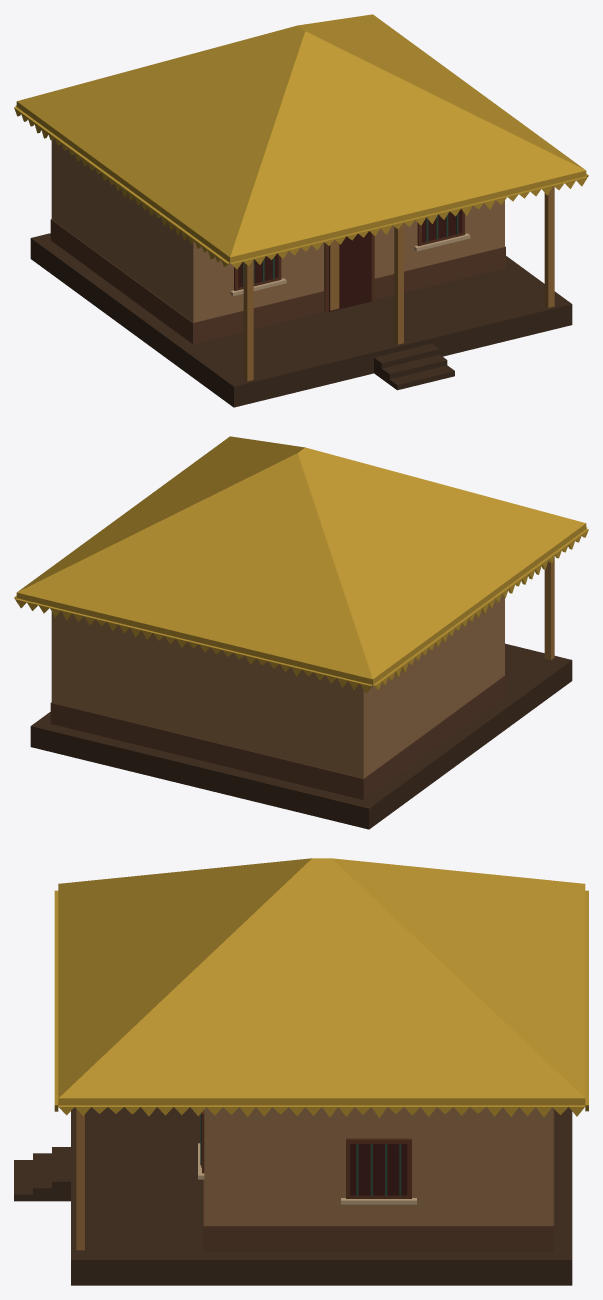
File: chop_bar.glb
The picture shows the model from 3 angles, top to bottom: view 1: azimuth 30°, elevation 25°; view 2: azimuth 150°, elevation 25°; view 3: azimuth 270°, elevation 25°; orthographic projection. The views are drawn at different scales.
Visible parts, largest first — view 1: Roof, Base, Walls, Details; view 2: Roof, Walls, Base, Details; view 3: Roof, Walls, Base, Details.
Boxes of the visible parts, left/top/right/bottom form: Roof: left=14, top=14, right=588, bottom=269; Base: left=30, top=233, right=572, bottom=407; Walls: left=50, top=139, right=505, bottom=344; Details: left=230, top=186, right=554, bottom=381; Roof: left=14, top=436, right=588, bottom=693; Walls: left=50, top=595, right=505, bottom=799; Base: left=30, top=643, right=572, bottom=829; Details: left=544, top=557, right=554, bottom=660; Roof: left=54, top=858, right=588, bottom=1117; Walls: left=203, top=1107, right=554, bottom=1252; Base: left=14, top=1107, right=572, bottom=1285; Details: left=76, top=1109, right=416, bottom=1250.
Size of what is drawn, in the model's own units: 8.12 by 5.66 by 9.06.
